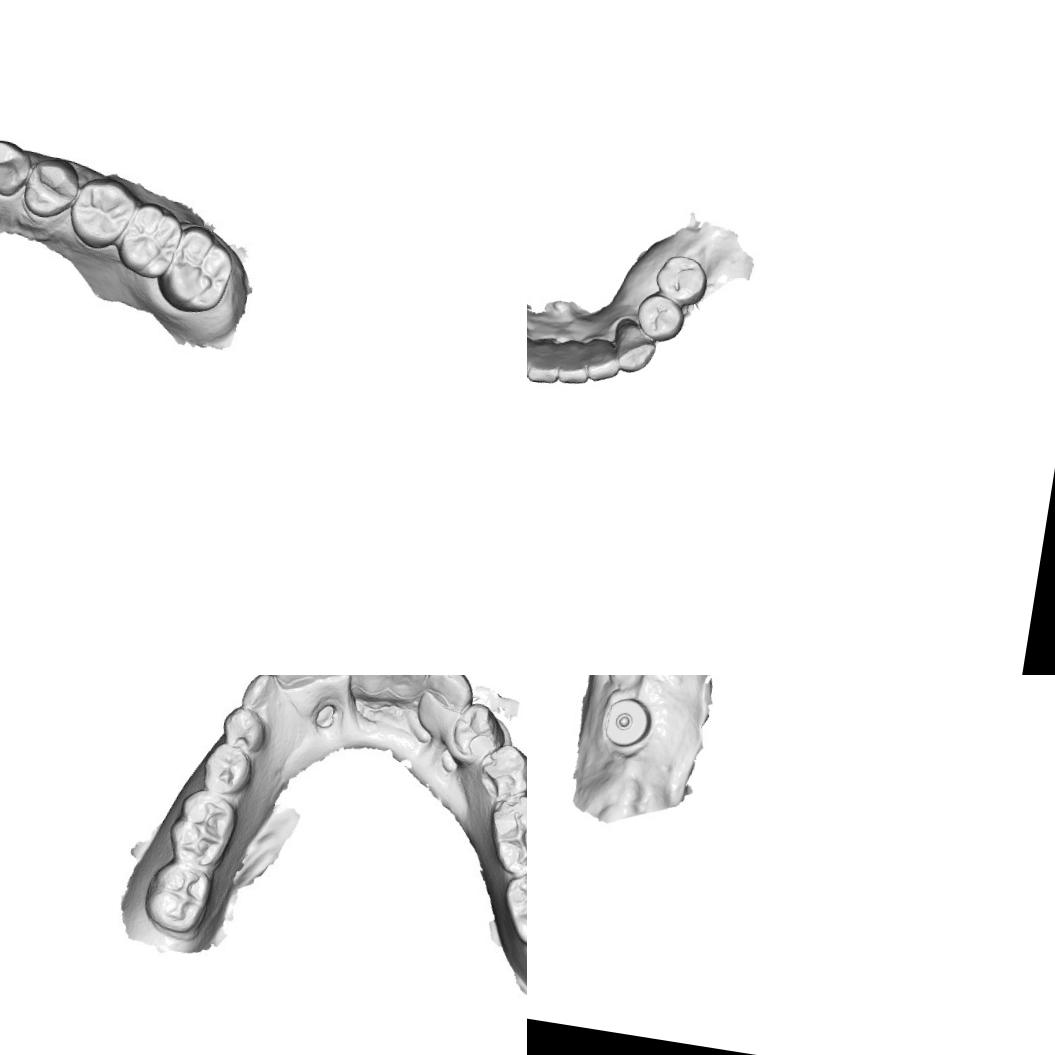canine: (608, 316, 662, 378), (239, 675, 296, 729), (421, 675, 476, 723)
implant: (598, 695, 656, 752)
incisor: (341, 675, 401, 719), (381, 675, 434, 719), (305, 675, 360, 714), (582, 335, 624, 385), (269, 675, 326, 711), (527, 336, 564, 386), (557, 336, 594, 386)
molar: (162, 783, 240, 872), (140, 856, 220, 941), (166, 225, 238, 311), (117, 202, 186, 276), (72, 172, 137, 246), (481, 790, 527, 881), (490, 869, 527, 954)
premolar: (22, 158, 86, 224), (196, 738, 258, 802), (472, 743, 527, 805), (651, 252, 710, 308), (450, 702, 502, 765), (631, 289, 688, 346), (213, 700, 267, 756), (0, 132, 39, 203)
